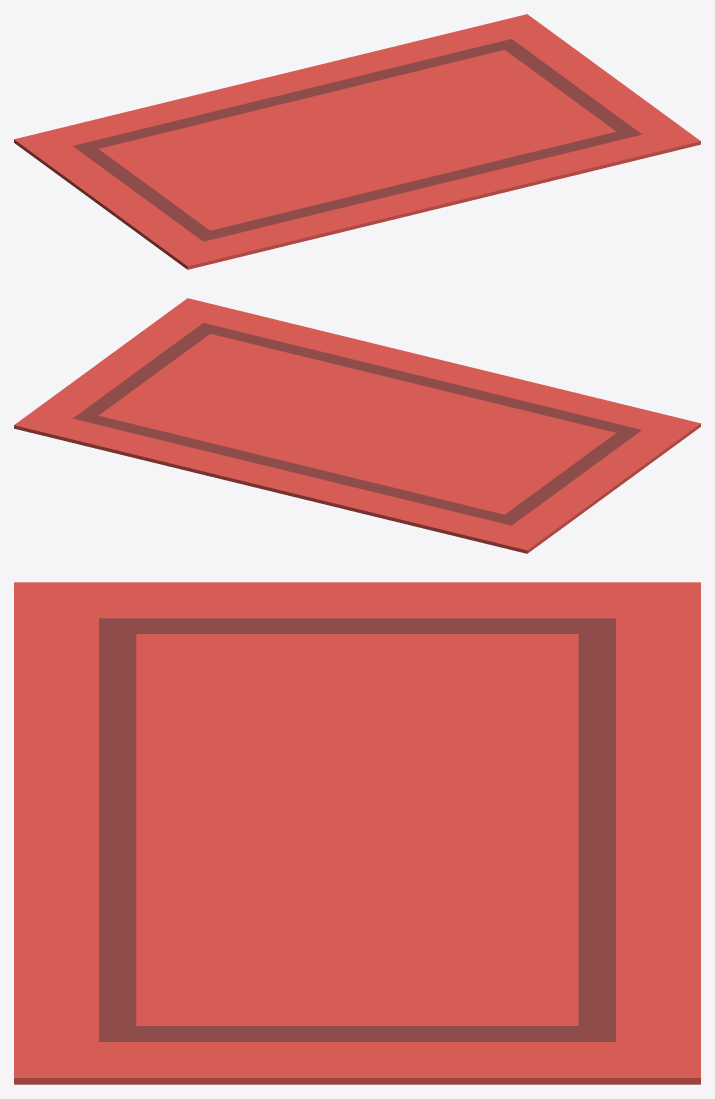
The model's file is rugrectangle.gltf.
3 views of the same model, one above another, from view 1: azimuth 30°, elevation 25°; view 2: azimuth 150°, elevation 25°; view 3: azimuth 270°, elevation 25° (orthographic). The views are drawn at different scales.
Parts seen in each view (by area): view 1: rugrectangle; view 2: rugrectangle; view 3: rugrectangle.
Boxes of the visible parts, x1=… form: rugrectangle: x1=14, y1=14, x2=700, y2=269; rugrectangle: x1=14, y1=298, x2=700, y2=553; rugrectangle: x1=14, y1=582, x2=700, y2=1084.
Size of the model in its own units: 1.57 by 0.01 by 0.92.
1 material, 1 textured.
